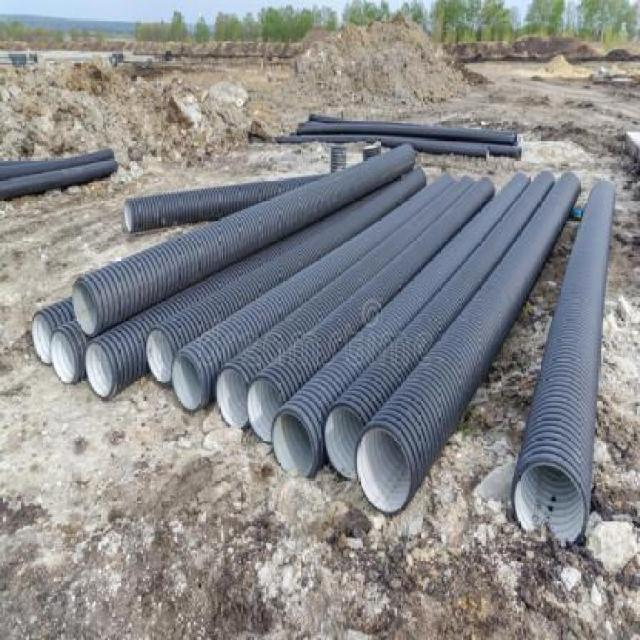pipe: (516, 466, 589, 544), (358, 428, 412, 514), (326, 407, 366, 480), (273, 415, 317, 478), (248, 379, 287, 442), (172, 355, 209, 410), (217, 369, 249, 428), (72, 277, 100, 336), (85, 343, 114, 398), (146, 330, 173, 383), (53, 334, 74, 384), (31, 315, 52, 364), (86, 346, 113, 384)
